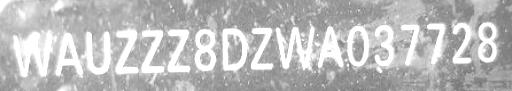letter: (10, 29, 54, 78), (274, 25, 316, 70), (82, 26, 114, 77), (54, 30, 86, 79), (165, 27, 193, 76), (317, 24, 345, 71), (248, 25, 276, 72), (140, 27, 166, 76), (220, 27, 248, 72), (192, 27, 218, 74), (114, 27, 140, 74), (450, 20, 474, 67), (475, 21, 499, 66), (346, 22, 370, 67), (398, 21, 420, 68), (425, 21, 447, 66), (373, 22, 395, 67)
